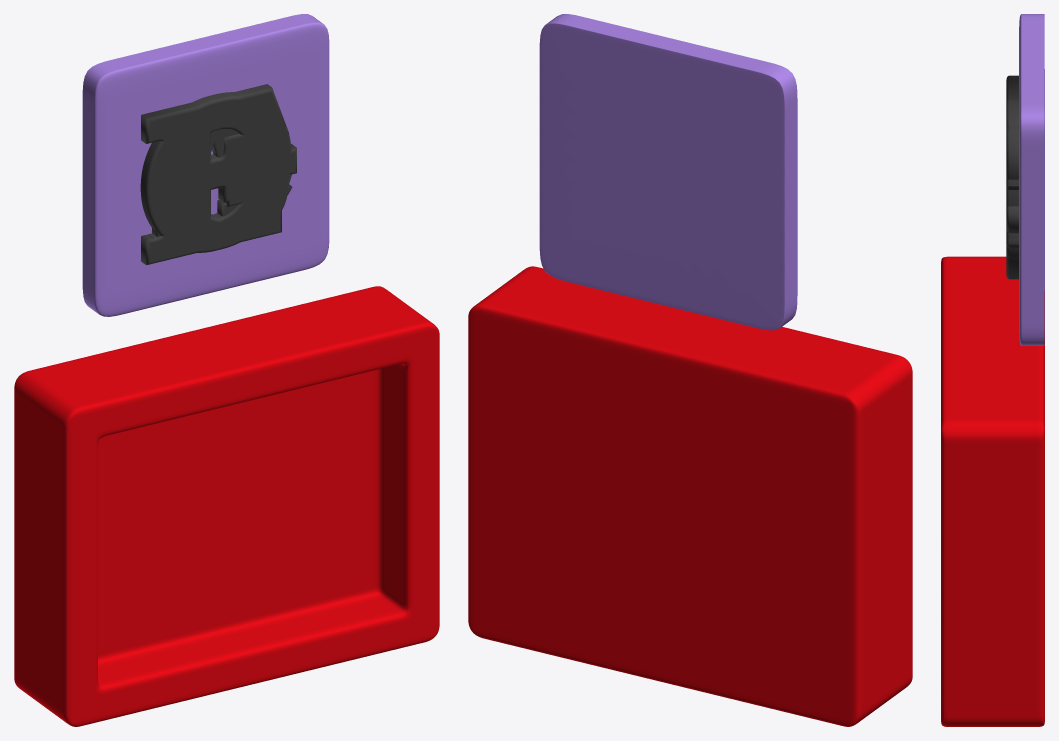
3 views of the same model, side by side, from view 1: azimuth 30°, elevation 25°; view 2: azimuth 150°, elevation 25°; view 3: azimuth 270°, elevation 25° (orthographic). The views are drawn at different scales.
Parts seen in each view (by area): view 1: Cube.012, Board, Note B, Note D, Note G, Note C, Note E, Note F, Note A; view 2: Cube.012, Board; view 3: Cube.012, Board, Note F, Note G, Note D, Note C, Note B, Note E.
Part boxes in pixels (x1,y1,x2,y2): Cube.012: (14,286,439,726); Board: (82,14,329,316); Note B: (147,98,286,262); Note D: (141,101,291,264); Note G: (140,92,296,252); Note C: (153,84,292,249); Note E: (151,89,292,262); Note F: (158,84,288,262); Note A: (152,129,239,236); Cube.012: (468,266,912,726); Board: (539,14,797,330); Cube.012: (941,256,1044,726); Board: (1019,14,1044,345); Note F: (1006,80,1018,189); Note G: (1006,99,1018,279); Note D: (1006,75,1018,207); Note C: (1006,106,1018,247); Note B: (1006,78,1018,258); Note E: (1006,79,1018,238).
Size of the model in its own units: 160 by 248 by 40.
